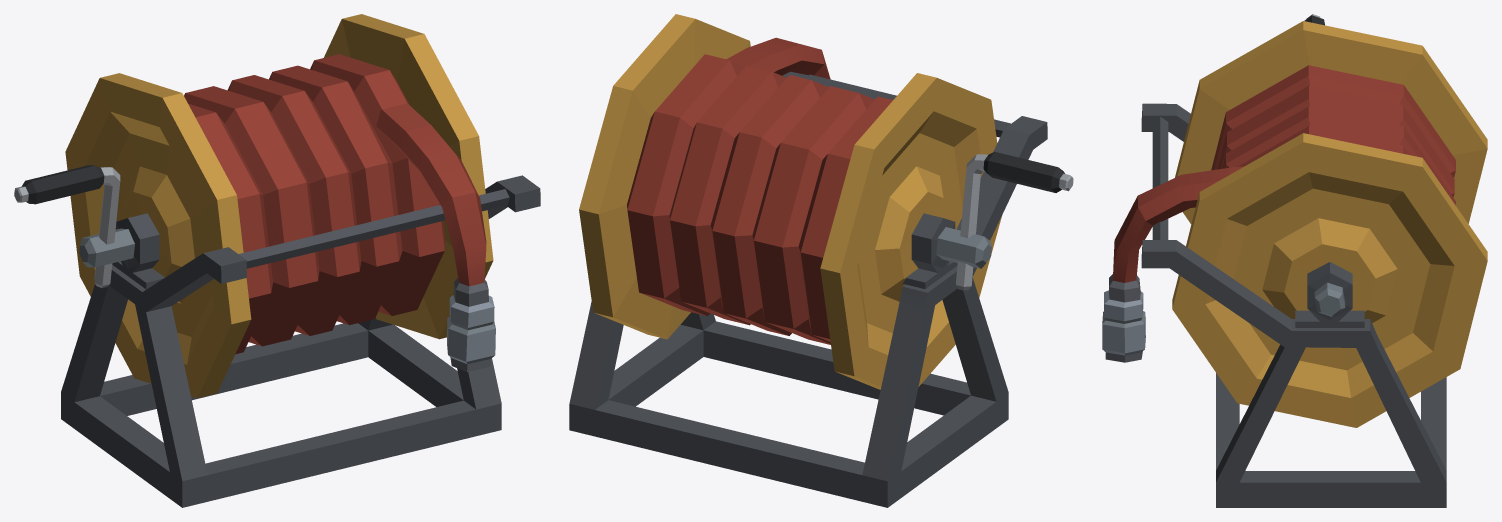
File: SM_Prop_Fire_Hose_01.fbx
The picture shows the model from 3 angles, left to right: view 1: azimuth 30°, elevation 25°; view 2: azimuth 150°, elevation 25°; view 3: azimuth 270°, elevation 25°; orthographic projection. The views are drawn at different scales.
Parts seen in each view (by area): view 1: SM_Prop_Fire_Hose_01; view 2: SM_Prop_Fire_Hose_01; view 3: SM_Prop_Fire_Hose_01.
Boxes of the visible parts, bbox=[...] form: SM_Prop_Fire_Hose_01: bbox=[14, 14, 540, 507]; SM_Prop_Fire_Hose_01: bbox=[569, 14, 1073, 507]; SM_Prop_Fire_Hose_01: bbox=[1102, 14, 1487, 507].
Size of the model in its own units: 111 by 88.07 by 87.59.
